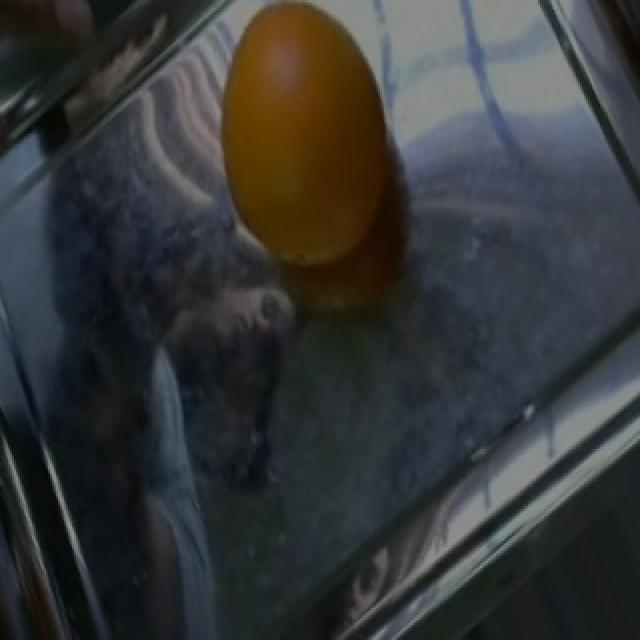Fruit: (180, 10, 420, 290)
